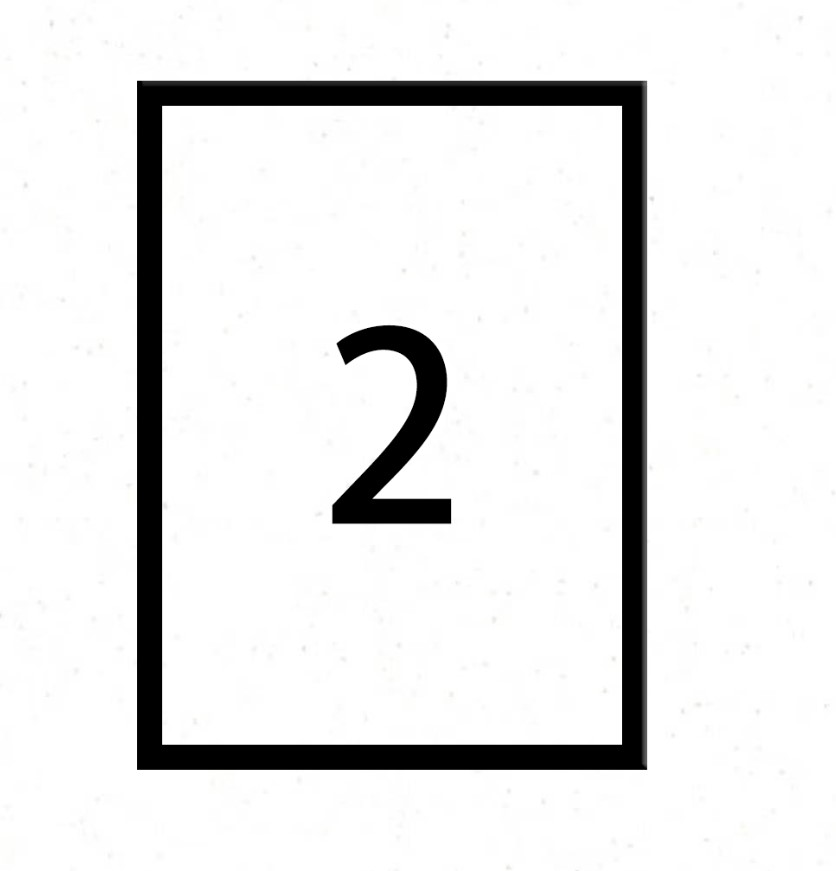two: (300, 296, 499, 563)
